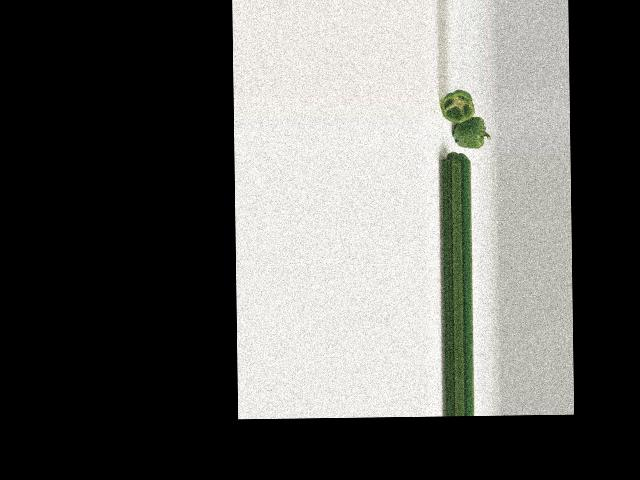bell_pepper: (438, 87, 478, 125)
